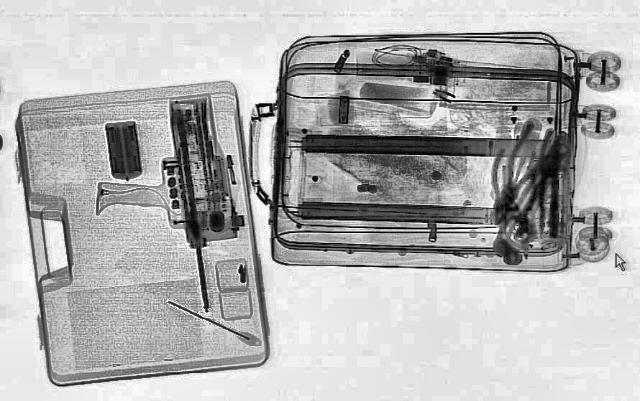Pliers: (489, 123, 556, 205), (476, 147, 536, 225)
